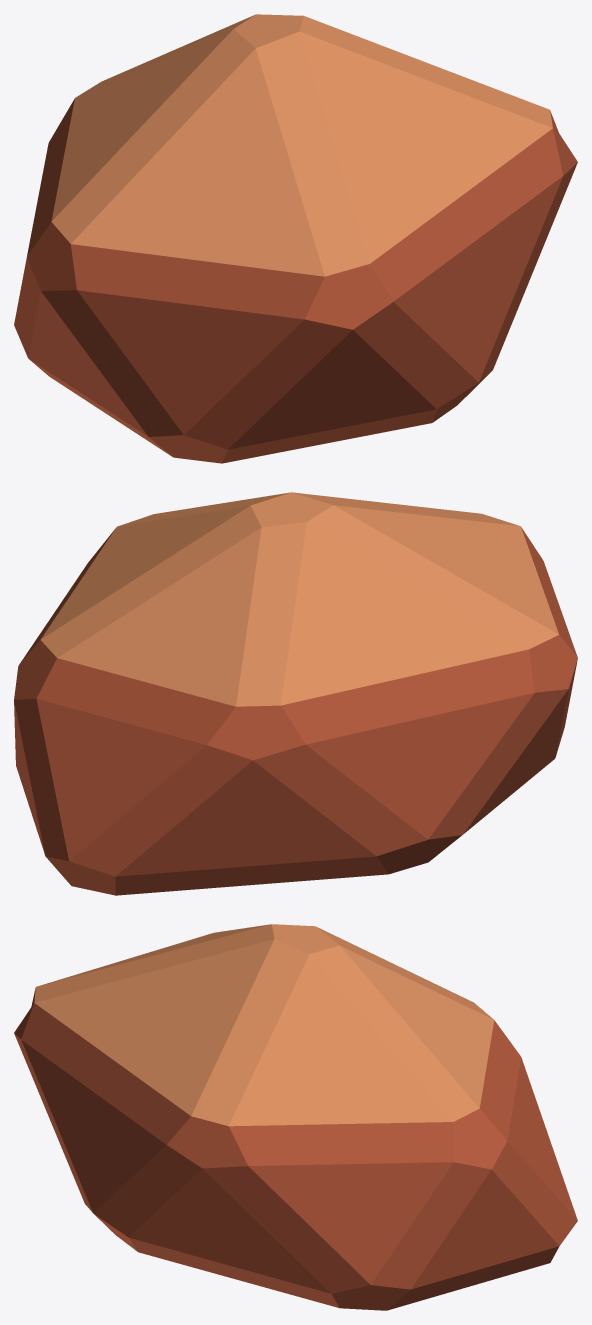
File: Boulder_A.fbx
3 views of the same model, one above another, from view 1: azimuth 30°, elevation 25°; view 2: azimuth 150°, elevation 25°; view 3: azimuth 270°, elevation 25° (orthographic). The views are drawn at different scales.
Visible parts, largest first — view 1: Boulder_A; view 2: Boulder_A; view 3: Boulder_A.
Part boxes in pixels (bbox=[...]): Boulder_A: bbox=[14, 14, 577, 463]; Boulder_A: bbox=[14, 492, 577, 895]; Boulder_A: bbox=[14, 924, 577, 1310].
Bounding box in the file's own units: 0.5623 × 0.4097 × 0.6113.
